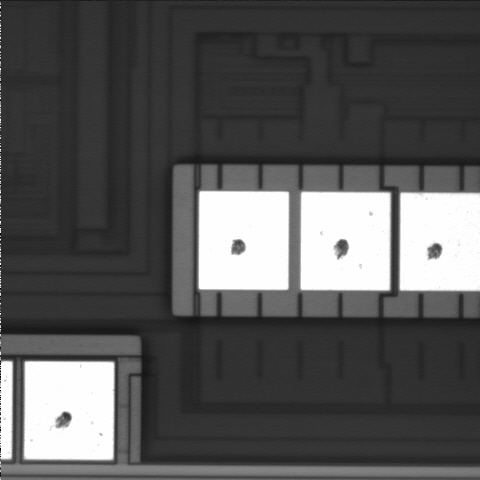pad: (199, 191, 289, 290), (24, 361, 114, 460), (301, 192, 390, 290)
